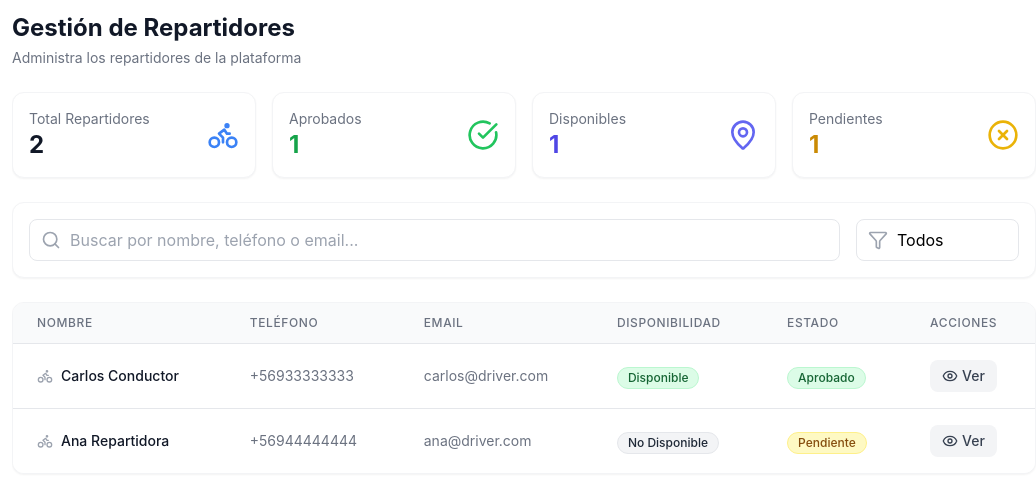
Drivers Component › Filtros › debe filtrar repartidores pendientes
The image size is (1036, 491).
Expected: the text "Ana Repartidora" is shown, [61,431,169,451]
Select "Pendientes" in the dropdown at [938, 240], box [856,219,1019,261]
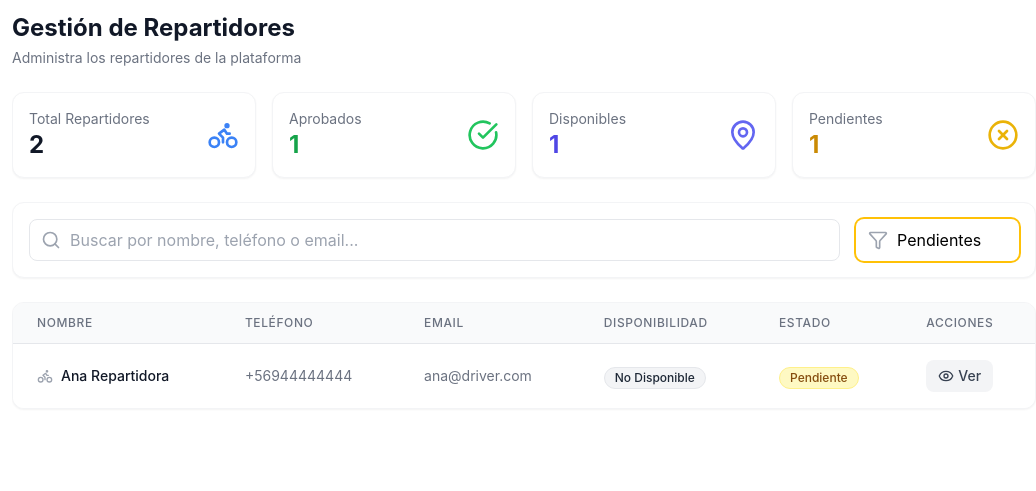
Expected: the text "Ana Repartidora" is shown, [61,366,169,386]
Expected: the text "Carlos Conductor" is gone
